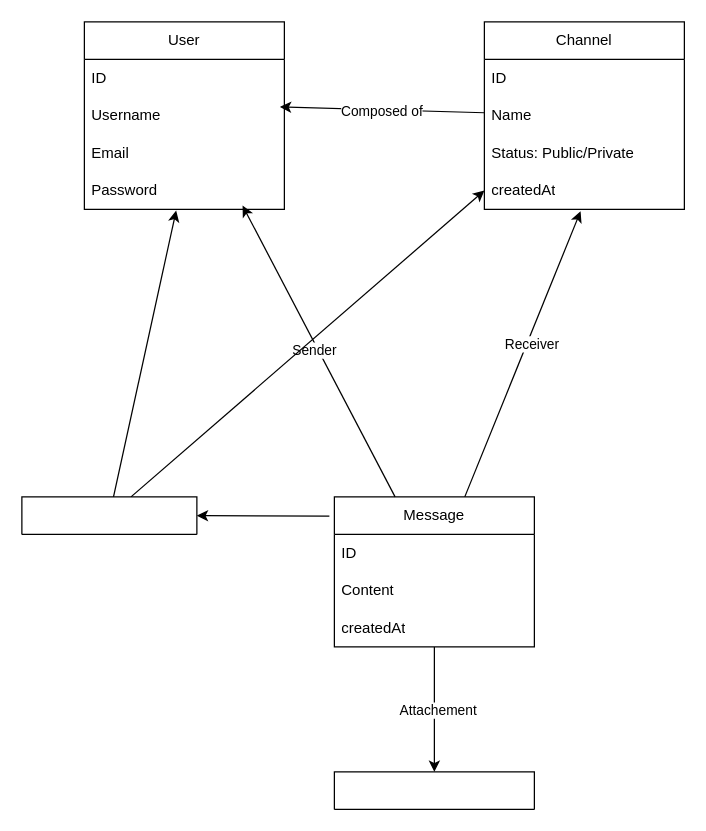
Image size: 706x831. Some labels were removed from this diagram. The centre of each missing label's shape, as x and y in pixels:
Media: the point at 433,790
Tag: the point at 109,515
